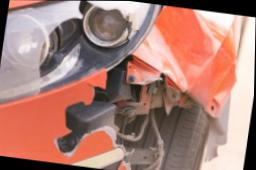Bumper: (43, 53, 221, 170)
